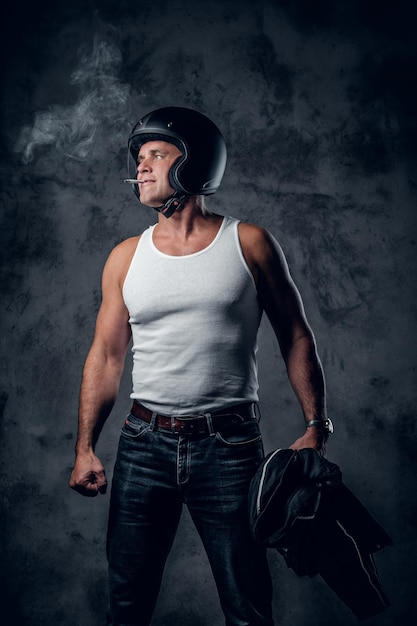cigarette: (123, 178, 145, 184)
